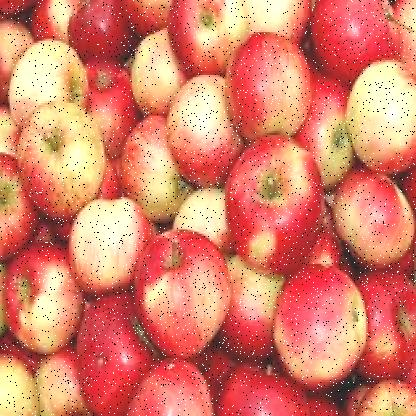apple: (230, 140, 338, 270), (270, 270, 370, 382), (138, 229, 233, 341), (63, 289, 158, 396), (16, 98, 100, 216), (217, 247, 307, 356), (62, 197, 148, 294), (162, 73, 242, 174), (10, 36, 92, 124), (3, 245, 74, 346), (119, 109, 183, 219), (228, 40, 310, 121), (128, 23, 200, 115), (315, 0, 400, 77), (346, 66, 414, 160), (340, 167, 414, 247), (171, 0, 240, 75), (127, 362, 222, 410), (66, 0, 136, 60)
